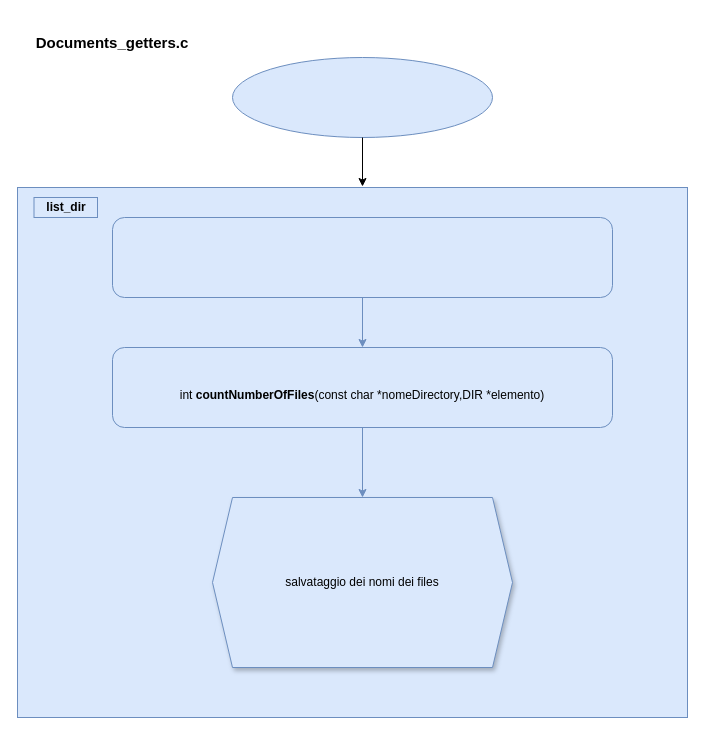
Some shapes in this 705 by 735 pixel diagram are drawn without their labels. Each missing label, with the centre of its shape:
int exists (const char *path) int isDirectory (const char *path): pixel 362 257
Main input: *nomeDirectory char ***files: pixel 362 97
